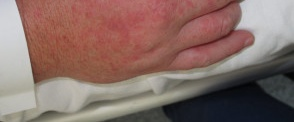SJS-TEN: (48, 0, 191, 82)
